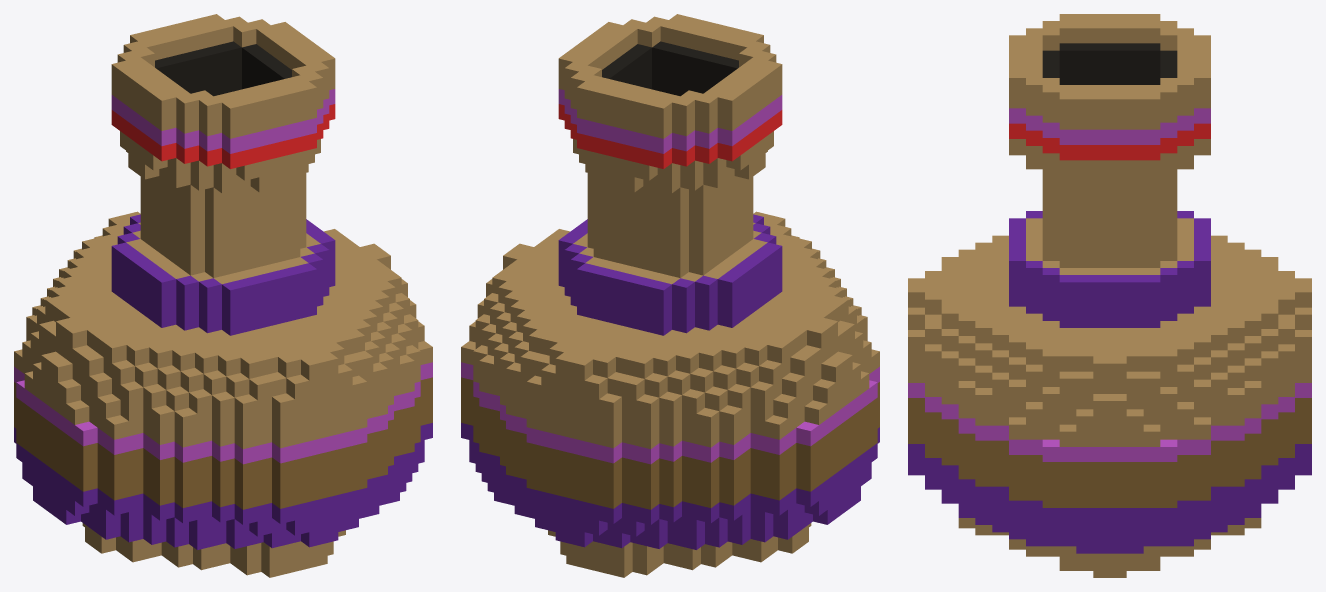
The model's file is Medieval Assets-55-Decoration - Desert - Urn - Variant6.obj.
3 views of the same model, side by side, from view 1: azimuth 30°, elevation 25°; view 2: azimuth 150°, elevation 25°; view 3: azimuth 270°, elevation 25° (orthographic).
Visible parts, largest first — view 1: Decoration - Desert - Urn - Variant6; view 2: Decoration - Desert - Urn - Variant6; view 3: Decoration - Desert - Urn - Variant6.
Boxes of the visible parts, x1=… form: Decoration - Desert - Urn - Variant6: x1=14, y1=14, x2=432, y2=577; Decoration - Desert - Urn - Variant6: x1=461, y1=14, x2=879, y2=577; Decoration - Desert - Urn - Variant6: x1=908, y1=14, x2=1311, y2=577.
Bounding box in the file's own units: 2.4 × 3 × 2.4.
1 material, 1 textured.
